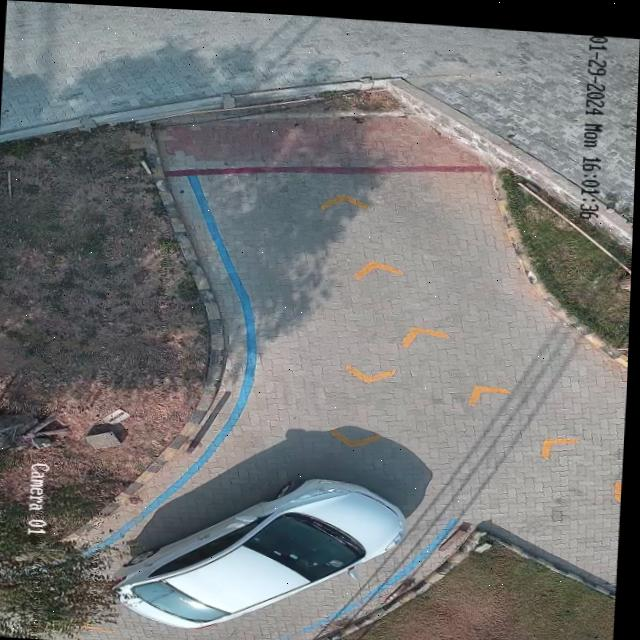car: (122, 473, 405, 623)
